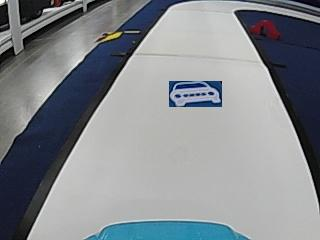bridge: (251, 18, 279, 38)
